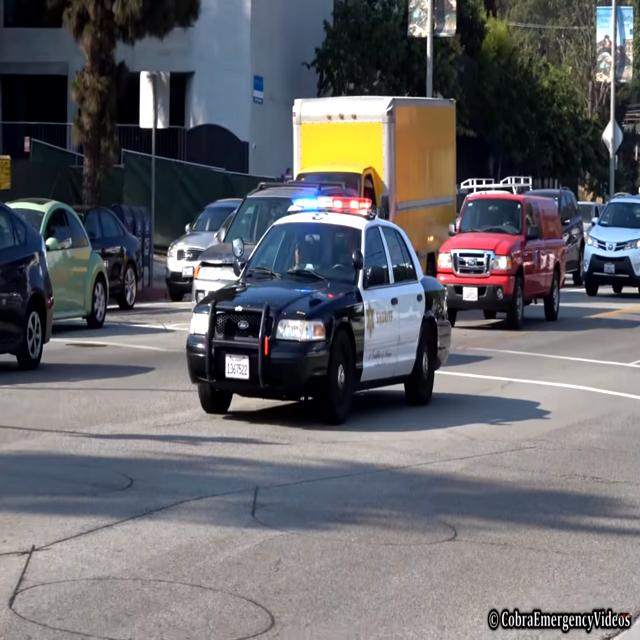emergency-vehicles: (169, 198, 472, 432)
